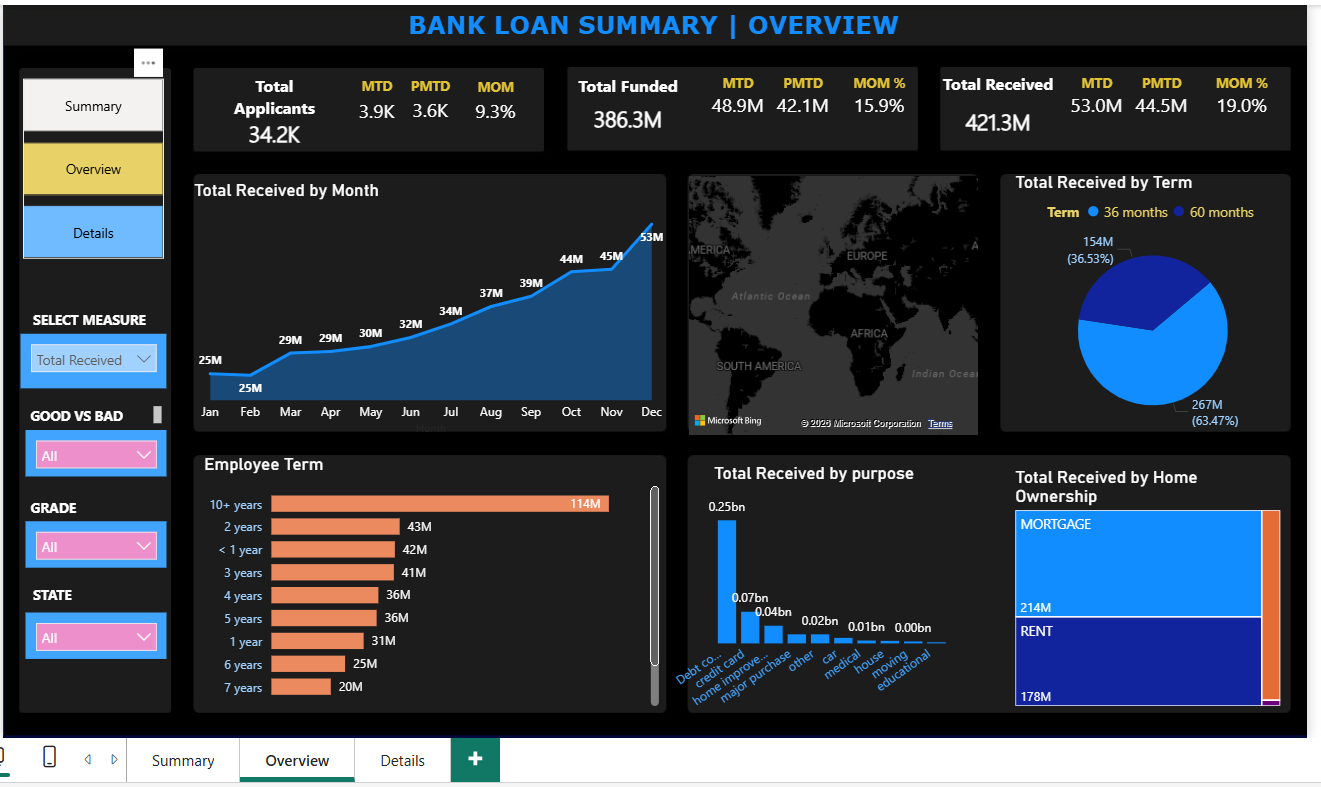

This screenshot's page, from the dashboard's own definition file:
{"tool":"powerbi","page":{"name":"Overview","canvas":[1280,720],"ordinal":1},"visuals":[{"type":"textbox","box":[387,0,505,45],"z":0},{"type":"card","title":"Total Applicants","fields":{"Values":["bank_finance_loan loan.Total Applicants"]},"box":[201.7,67.2,130.4,78.2],"z":1000},{"type":"card","title":"MTD","fields":{"Values":["bank_finance_loan loan.MTD Funded amount"]},"box":[657.3,67.2,127.6,43.9],"z":2000},{"type":"card","title":"PMTD","fields":{"Values":["bank_finance_loan loan.PMTD funded amount"]},"box":[721.8,67.2,127.6,43.9],"z":3000},{"type":"card","title":"MOM %","fields":{"Values":["bank_finance_loan loan.MOM growth Funded%"]},"box":[795.9,67.2,127.6,43.9],"z":4000},{"type":"card","title":"MTD","fields":{"Values":["bank_finance_loan loan.MTD applicants"]},"box":[301.9,70,130.4,53.5],"z":5000},{"type":"card","title":"PMTD","fields":{"Values":["bank_finance_loan loan.Pmtd applicants"]},"box":[354.6,69.9,130.1,52.8],"z":6000},{"type":"card","title":"MOM","fields":{"Values":["bank_finance_loan loan.MOm growth %"]},"box":[418.5,71.4,130.4,52.1],"z":7000},{"type":"card","title":"Total Funded ","fields":{"Values":["bank_finance_loan loan.TOTAL Funded"]},"box":[548.9,67.2,130.4,70],"z":8000},{"type":"card","title":"Total Received","fields":{"Values":["bank_finance_loan loan.Total Received"]},"box":[911.2,65.9,130.4,78.2],"z":9000},{"type":"card","title":"MTD","fields":{"Values":["bank_finance_loan loan.MTD amount Received"]},"box":[1010,67.2,127.6,43.9],"z":10000},{"type":"card","title":"PMTD","fields":{"Values":["bank_finance_loan loan.PMTD total Received"]},"box":[1073.1,67.2,127.6,43.9],"z":11000},{"type":"card","title":"MOM %","fields":{"Values":["bank_finance_loan loan.MOM total received"]},"box":[1152.7,67.2,127.6,43.9],"z":12000},{"type":"slicer","fields":{"Values":["bank_finance_loan loan.address_state"]},"box":[22.1,596.3,138.7,45.4],"z":13000},{"type":"slicer","fields":{"Values":["bank_finance_loan loan.grade"]},"box":[22.1,506.8,138.7,45.4],"z":14000},{"type":"slicer","fields":{"Values":["bank_finance_loan loan.GOOD LOAN VS BAD LOAN"]},"box":[22.1,417.2,138.7,45.4],"z":15000},{"type":"textbox","box":[22.1,389,138.7,28.2],"z":16000},{"type":"textbox","box":[22.1,479.8,76.1,31.9],"z":17000},{"type":"textbox","box":[24.5,564.4,69.9,38],"z":18000},{"type":"areaChart","fields":{"Y":["bank_finance_loan loan.Total Received"],"Category":["Date Table.Month"]},"box":[182.8,171.8,474.8,255.2],"z":19000},{"type":"slicer","fields":{"Values":["SELECTION FIELD.SELECTION FIELD"]},"box":[17.2,322.7,143.6,54],"z":20000},{"type":"map","fields":{"Category":["bank_finance_loan loan.address_state"]},"box":[668.7,163.2,293.3,263.8],"z":21000},{"type":"pieChart","fields":{"Y":["bank_finance_loan loan.Total Received"],"Category":["bank_finance_loan loan.loan_term"]},"box":[989,163.2,279.8,263.8],"z":22000},{"type":"barChart","title":"Employee Term","fields":{"Y":["bank_finance_loan loan.Total Received"],"Category":["bank_finance_loan loan.emp_length"]},"box":[192.6,440.5,456.4,252.8],"z":23000},{"type":"columnChart","fields":{"Y":["bank_finance_loan loan.Total Received"],"Category":["bank_finance_loan loan.purpose"]},"box":[652.8,449.1,287.1,252.8],"z":24000},{"type":"treemap","fields":{"Values":["bank_finance_loan loan.Total Received"],"Group":["bank_finance_loan loan.home_ownership"]},"box":[989,452.8,269.9,240.5],"z":25000},{"type":"textbox","box":[24.5,294.5,136.2,28.2],"z":26000},{"type":"pageNavigator","box":[19.6,72.4,138.7,176.7],"z":26001}]}

Visuals, with their boxes on the page's 1280x720 design canvas (x1, y1, x2, y2). These are canvas units, not pixel positions in the 1321x787 screenshot, which may show the page scaled, cropped or inside an application window:
textbox: bbox(387, 0, 892, 45)
"Total Applicants" card: bbox(202, 67, 332, 145)
"MTD" card: bbox(657, 67, 785, 111)
"PMTD" card: bbox(722, 67, 849, 111)
"MOM %" card: bbox(796, 67, 924, 111)
"MTD" card: bbox(302, 70, 432, 124)
"PMTD" card: bbox(355, 70, 485, 123)
"MOM" card: bbox(418, 71, 549, 124)
"Total Funded " card: bbox(549, 67, 679, 137)
"Total Received" card: bbox(911, 66, 1042, 144)
"MTD" card: bbox(1010, 67, 1138, 111)
"PMTD" card: bbox(1073, 67, 1201, 111)
"MOM %" card: bbox(1153, 67, 1280, 111)
slicer - bank_finance_loan loan.address_state: bbox(22, 596, 161, 642)
slicer - bank_finance_loan loan.grade: bbox(22, 507, 161, 552)
slicer - bank_finance_loan loan.GOOD LOAN VS BAD LOAN: bbox(22, 417, 161, 463)
textbox: bbox(22, 389, 161, 417)
textbox: bbox(22, 480, 98, 512)
textbox: bbox(24, 564, 94, 602)
areaChart - bank_finance_loan loan.Total Received x Date Table.Month: bbox(183, 172, 658, 427)
slicer - SELECTION FIELD.SELECTION FIELD: bbox(17, 323, 161, 377)
map - bank_finance_loan loan.address_state: bbox(669, 163, 962, 427)
pieChart - bank_finance_loan loan.Total Received x bank_finance_loan loan.loan_term: bbox(989, 163, 1269, 427)
"Employee Term" barChart: bbox(193, 440, 649, 693)
columnChart - bank_finance_loan loan.Total Received x bank_finance_loan loan.purpose: bbox(653, 449, 940, 702)
treemap - bank_finance_loan loan.Total Received x bank_finance_loan loan.home_ownership: bbox(989, 453, 1259, 693)
textbox: bbox(24, 294, 161, 323)
pageNavigator: bbox(20, 72, 158, 249)
